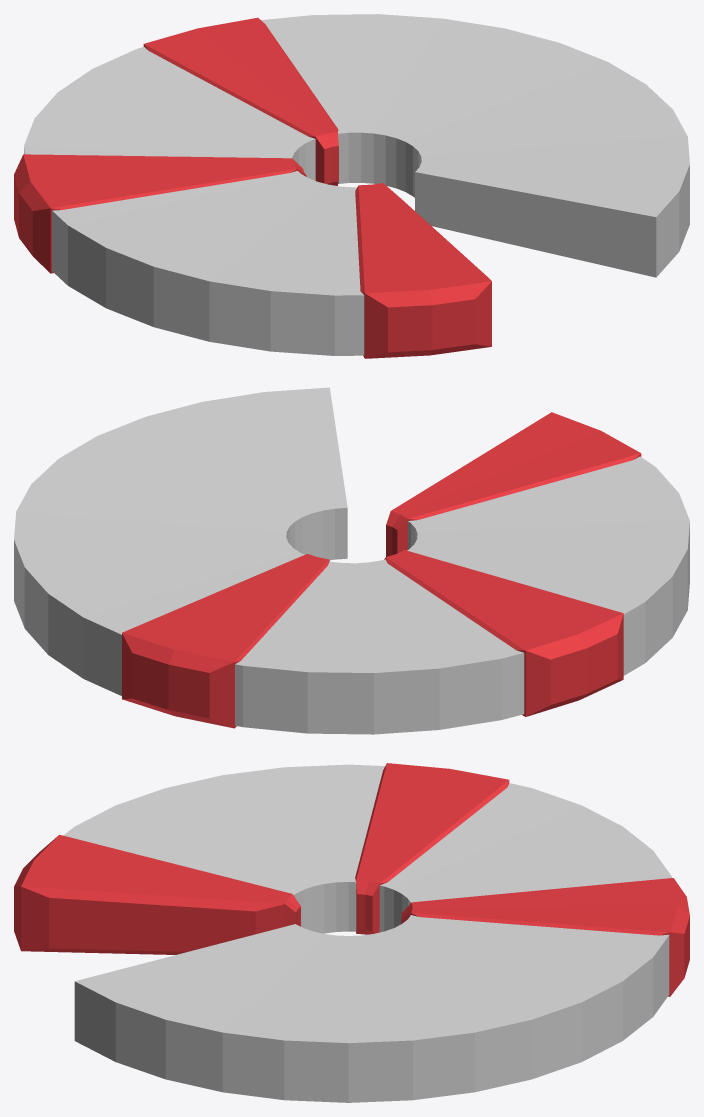
The model's file is platform_singlegap5.glb.
3 views of the same model, one above another, from view 1: azimuth 30°, elevation 25°; view 2: azimuth 150°, elevation 25°; view 3: azimuth 270°, elevation 25° (orthographic). The views are drawn at different scales.
Visible parts, largest first — view 1: Platform_SingleGap5, Danger.009, Danger.020, Danger.021; view 2: Platform_SingleGap5, Danger.021, Danger.020, Danger.009; view 3: Platform_SingleGap5, Danger.009, Danger.021, Danger.020.
Part boxes in pixels (x1,y1,x2,y2): Platform_SingleGap5: (24,14,689,355); Danger.009: (355,183,491,358); Danger.020: (14,154,306,273); Danger.021: (143,17,338,185); Platform_SingleGap5: (14,387,689,734); Danger.021: (122,554,329,728); Danger.020: (384,550,623,716); Danger.009: (386,412,641,556); Platform_SingleGap5: (63,764,672,1102); Danger.009: (14,834,300,954); Danger.021: (401,878,689,996); Danger.020: (355,763,509,934).
Size of the model in its own units: 2.01 by 0.2167 by 2.05.
